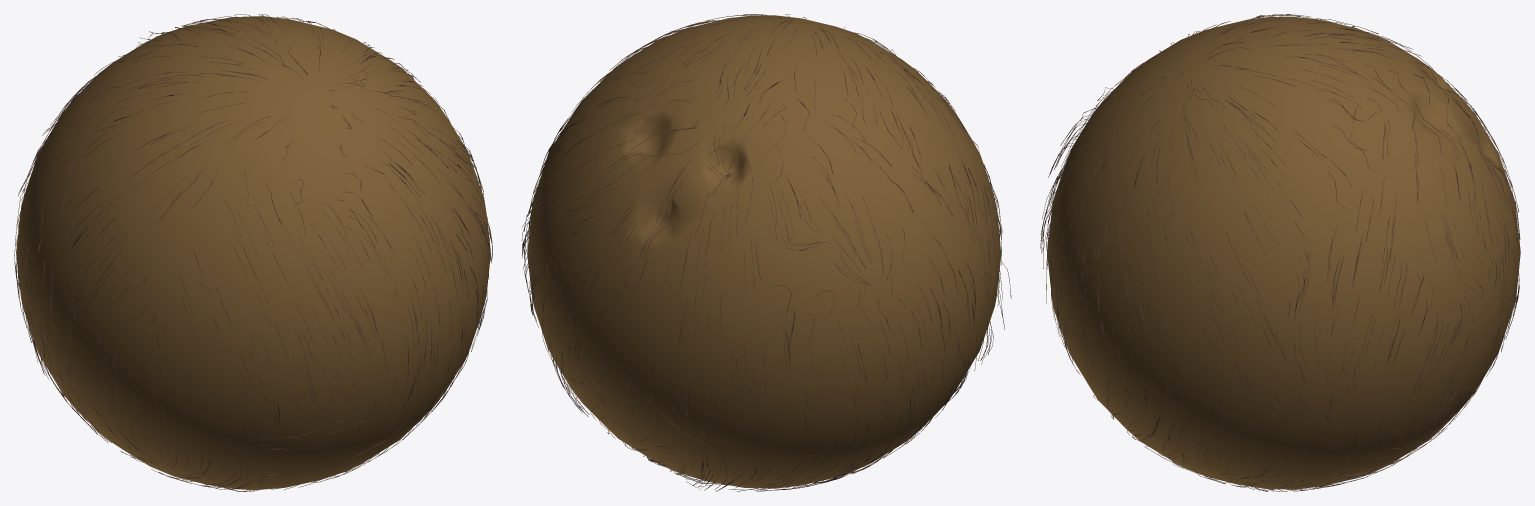
The model's file is cocco.fbx.
3 views of the same model, side by side, from view 1: azimuth 30°, elevation 25°; view 2: azimuth 150°, elevation 25°; view 3: azimuth 270°, elevation 25° (orthographic).
Visible parts, largest first — view 1: Cocco; view 2: Cocco; view 3: Cocco.
Boxes of the visible parts, x1,y1,x2,y2 form: Cocco: (14, 14, 492, 491); Cocco: (521, 14, 1011, 491); Cocco: (1040, 14, 1520, 491).
Size of the model in its own units: 35.4 by 35.02 by 35.21.
